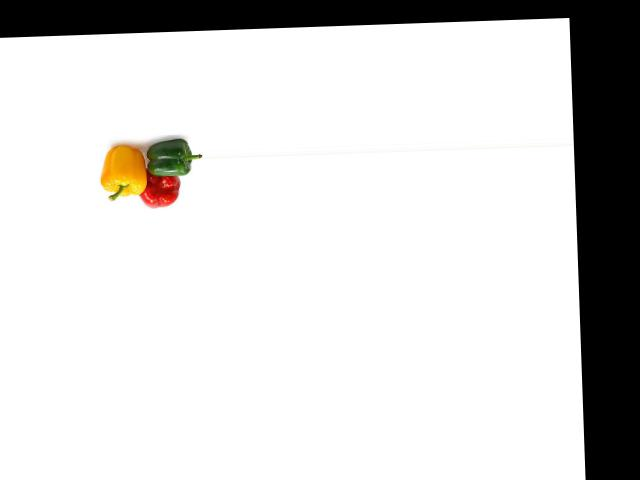bell_pepper: (136, 137, 198, 182)
